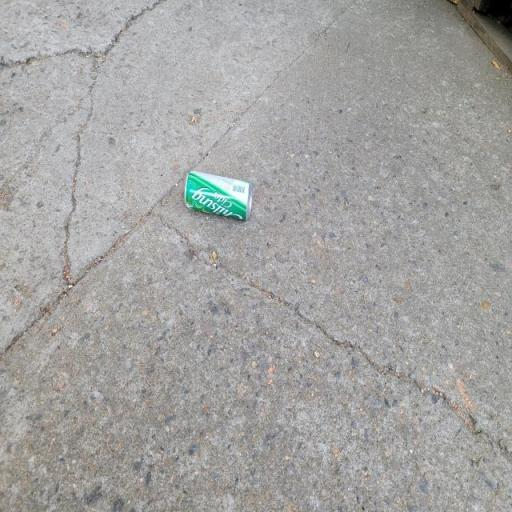metal: (160, 142, 276, 245)
